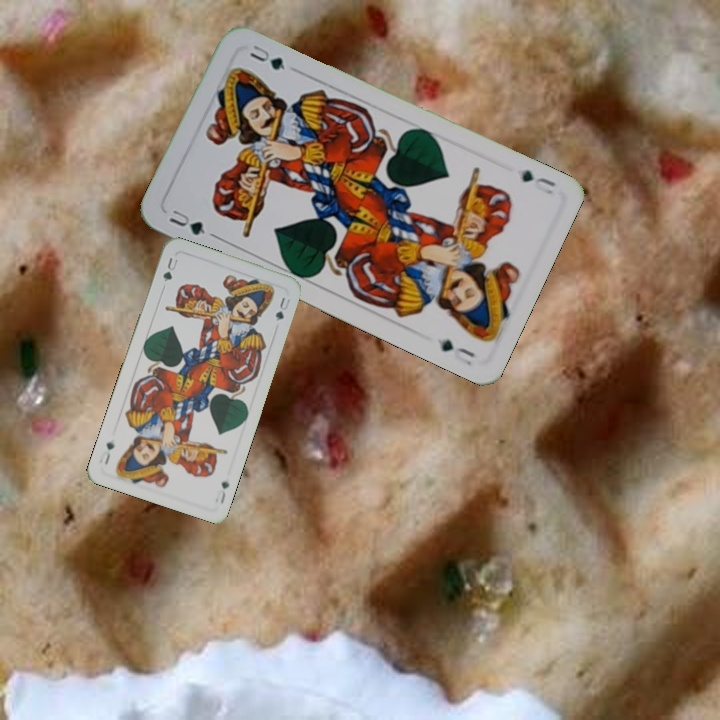GU: (165, 205, 218, 240), (517, 166, 559, 197), (159, 253, 180, 284), (211, 477, 232, 507)
